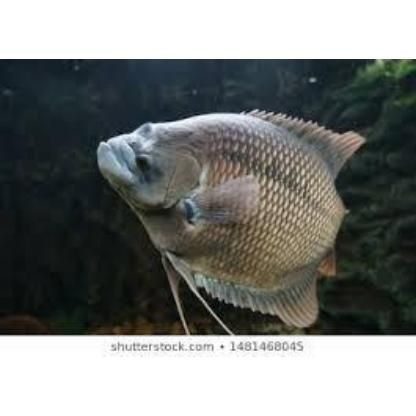gurame: (93, 106, 364, 324)
